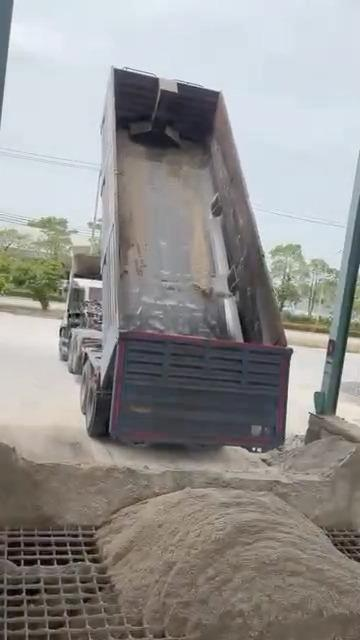sand: (99, 488, 360, 639), (1, 436, 359, 525), (1, 559, 91, 583)
